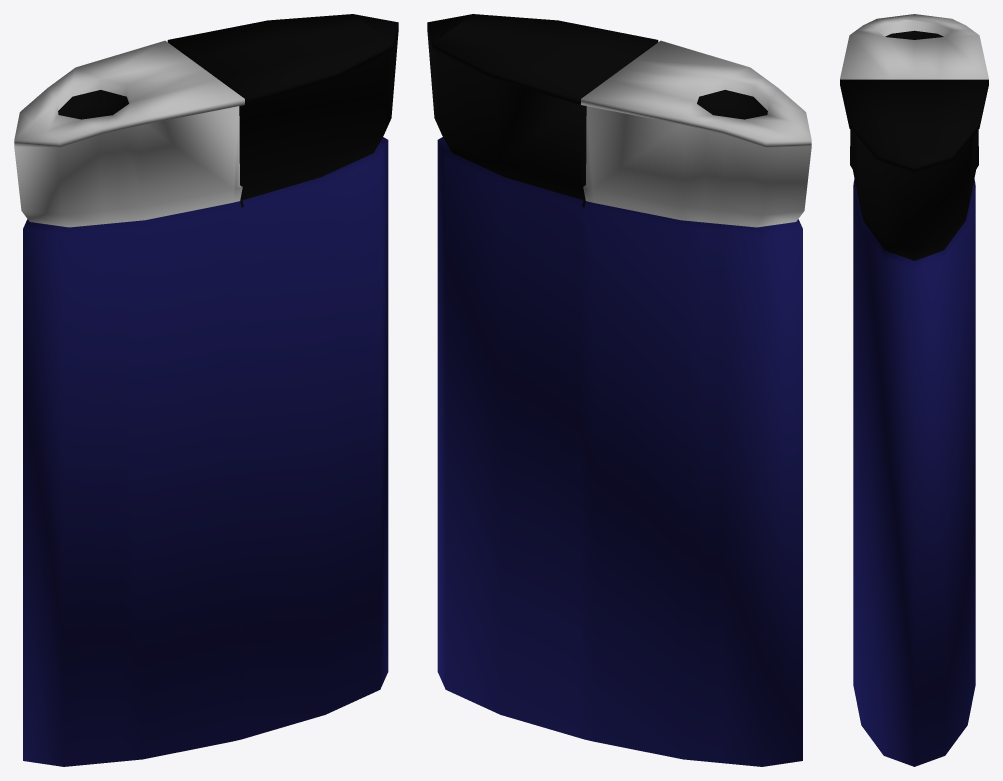
Rendered from Feuerzeug.fbx.
3 views of the same model, side by side, from view 1: azimuth 30°, elevation 25°; view 2: azimuth 150°, elevation 25°; view 3: azimuth 270°, elevation 25° (orthographic). The views are drawn at different scales.
Visible parts, largest first — view 1: Feuerzeug; view 2: Feuerzeug; view 3: Feuerzeug.
Part boxes in pixels (<box>): Feuerzeug: <box>14,14,398,766</box>; Feuerzeug: <box>427,14,811,766</box>; Feuerzeug: <box>840,14,988,766</box>.
Size of the model in its own units: 5.87 by 9.47 by 2.1.
